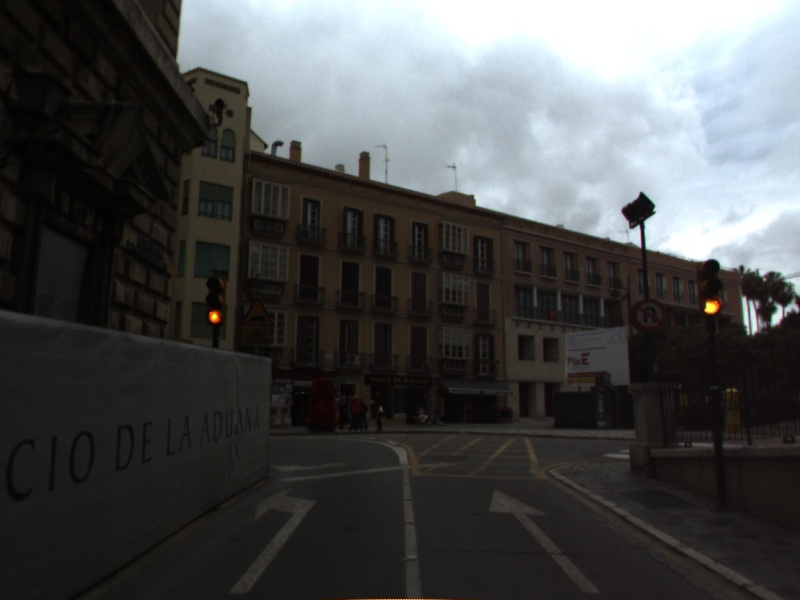LEFT: (227, 486, 318, 595)
STRAIGHT: (485, 485, 603, 595)
